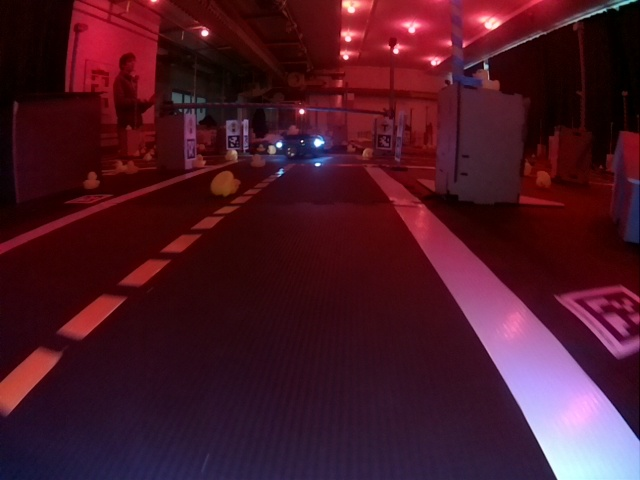Duckie: (211, 172, 241, 196), (82, 172, 100, 189), (251, 154, 265, 167)
Duckiebot: (275, 134, 324, 159)
Intersection sign: (379, 121, 392, 134)
QR code: (558, 285, 638, 357), (65, 195, 111, 205), (377, 135, 391, 149), (186, 139, 195, 159), (229, 136, 240, 147), (396, 138, 402, 158), (243, 135, 249, 148)
Signal sign: (186, 118, 195, 134)
Traffic light: (298, 103, 307, 116)
